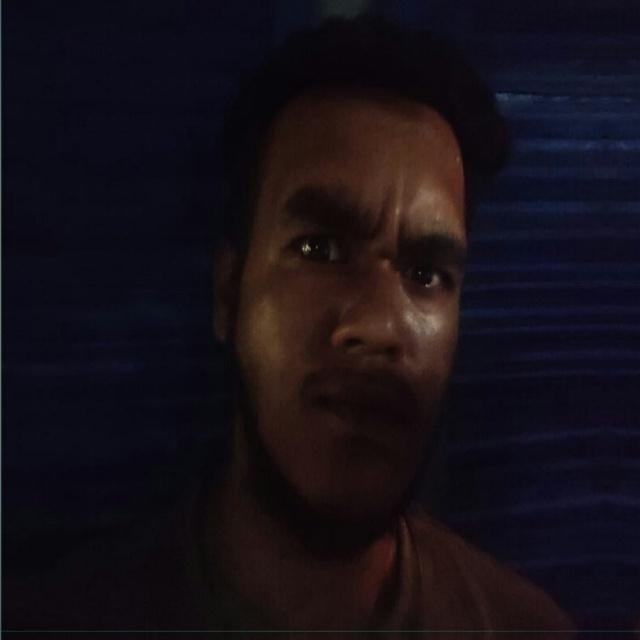Angry: (153, 80, 585, 549)
